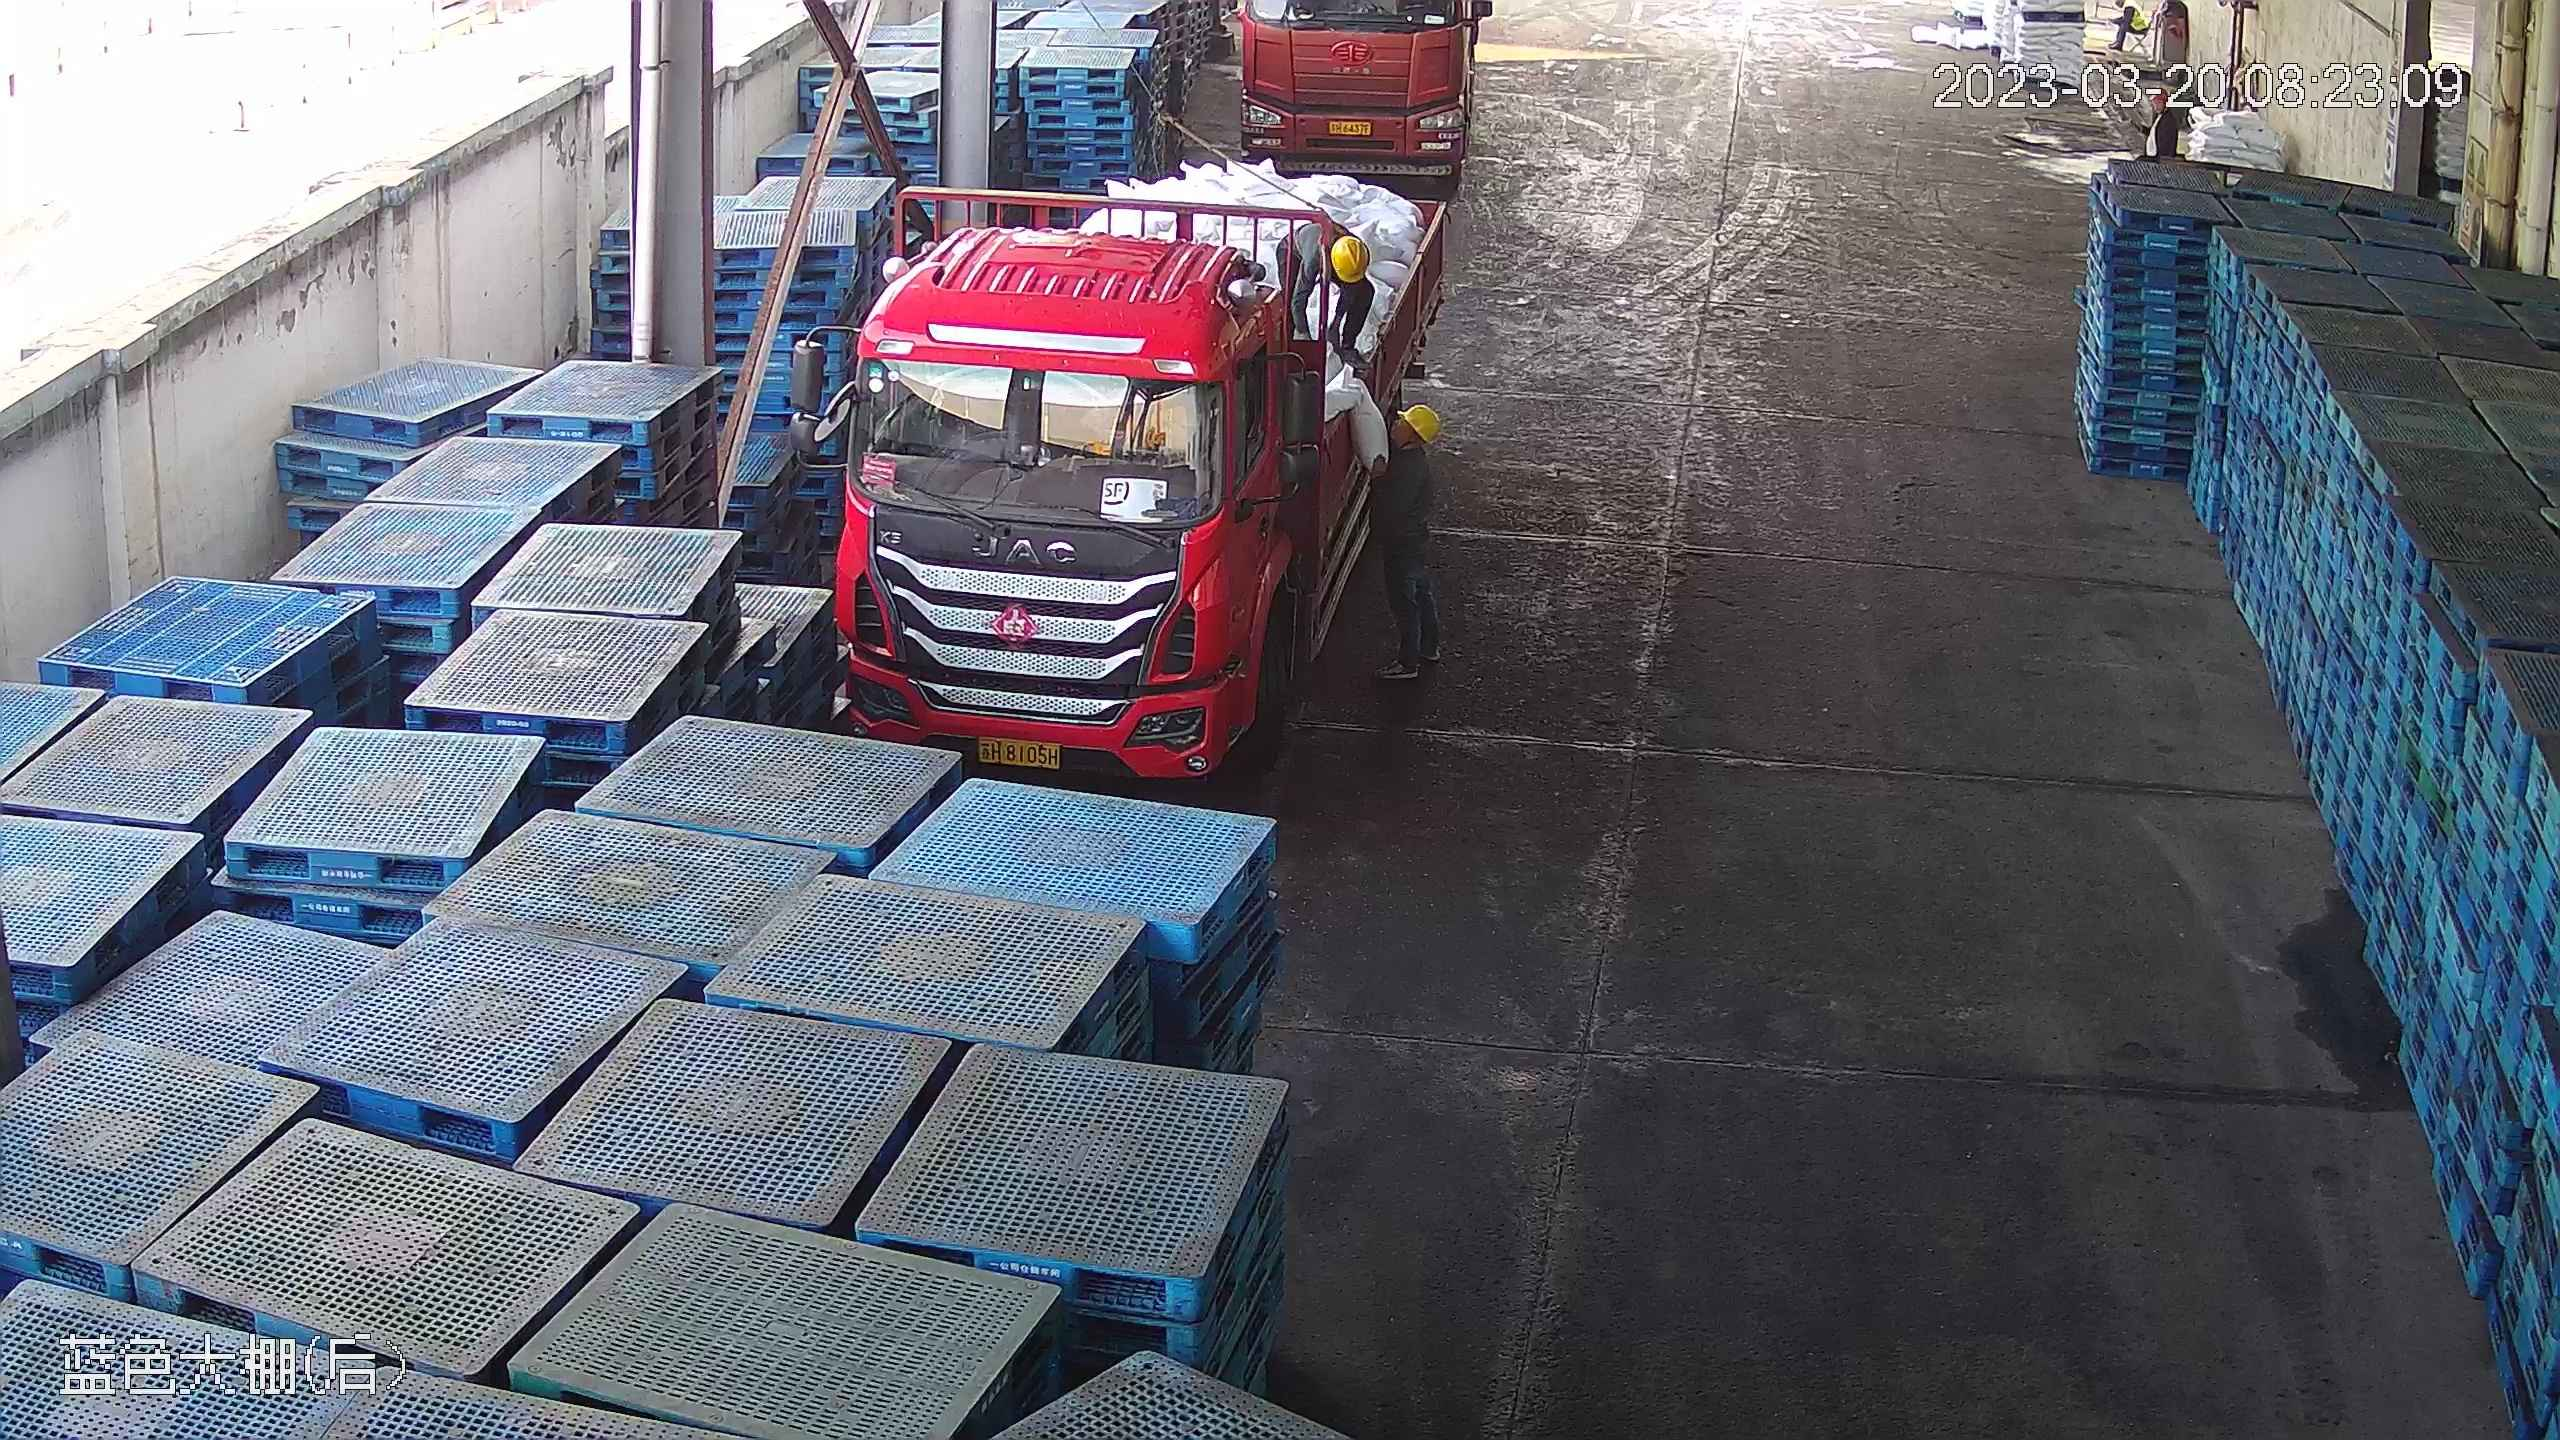belt: (1298, 217, 1357, 278)
head: (1371, 402, 1447, 501), (1298, 228, 1375, 292)
helmet: (1328, 230, 1372, 283), (1398, 402, 1444, 443)
people: (1361, 400, 1449, 686), (1284, 225, 1378, 373)
truck: (803, 168, 1463, 787), (1240, 6, 1477, 163)
